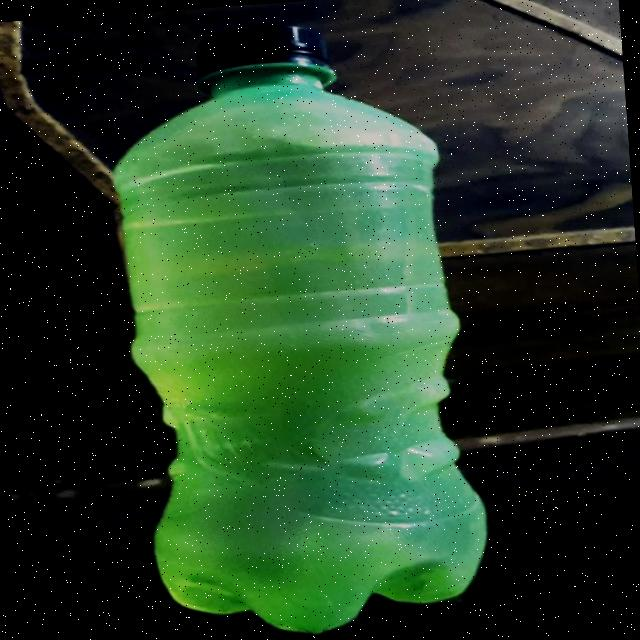bottle: (96, 2, 505, 640)
cap: (188, 20, 336, 80)
